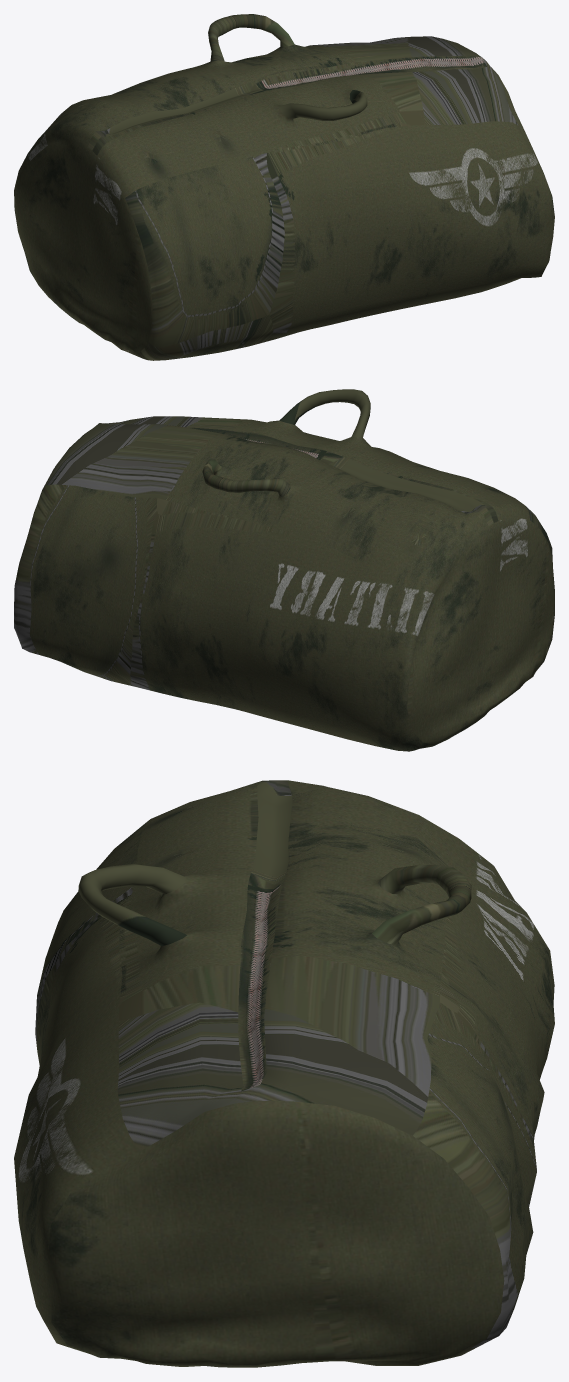
Rendered from heist_duffel.obj.
3 views of the same model, one above another, from view 1: azimuth 30°, elevation 25°; view 2: azimuth 150°, elevation 25°; view 3: azimuth 270°, elevation 25° (orthographic). The views are drawn at different scales.
Visible parts, largest first — view 1: Heist_Duffel; view 2: Heist_Duffel; view 3: Heist_Duffel.
Part boxes in pixels (left/top/right/bottom): Heist_Duffel: left=14, top=14, right=554, bottom=360; Heist_Duffel: left=14, top=389, right=554, bottom=751; Heist_Duffel: left=14, top=780, right=554, bottom=1367.
Size of the model in its own units: 0.9 by 0.46 by 0.66.
